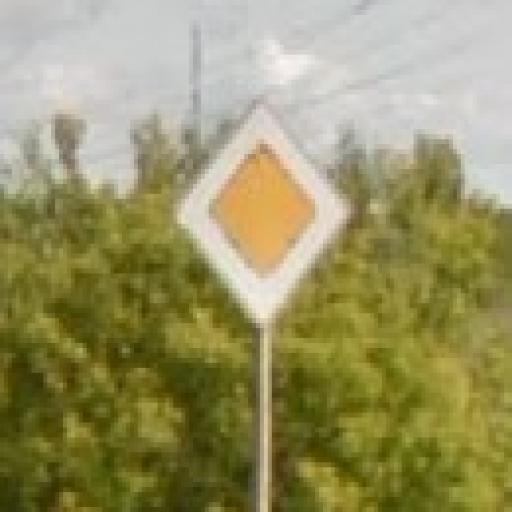traffic_sign: (171, 100, 356, 334)
